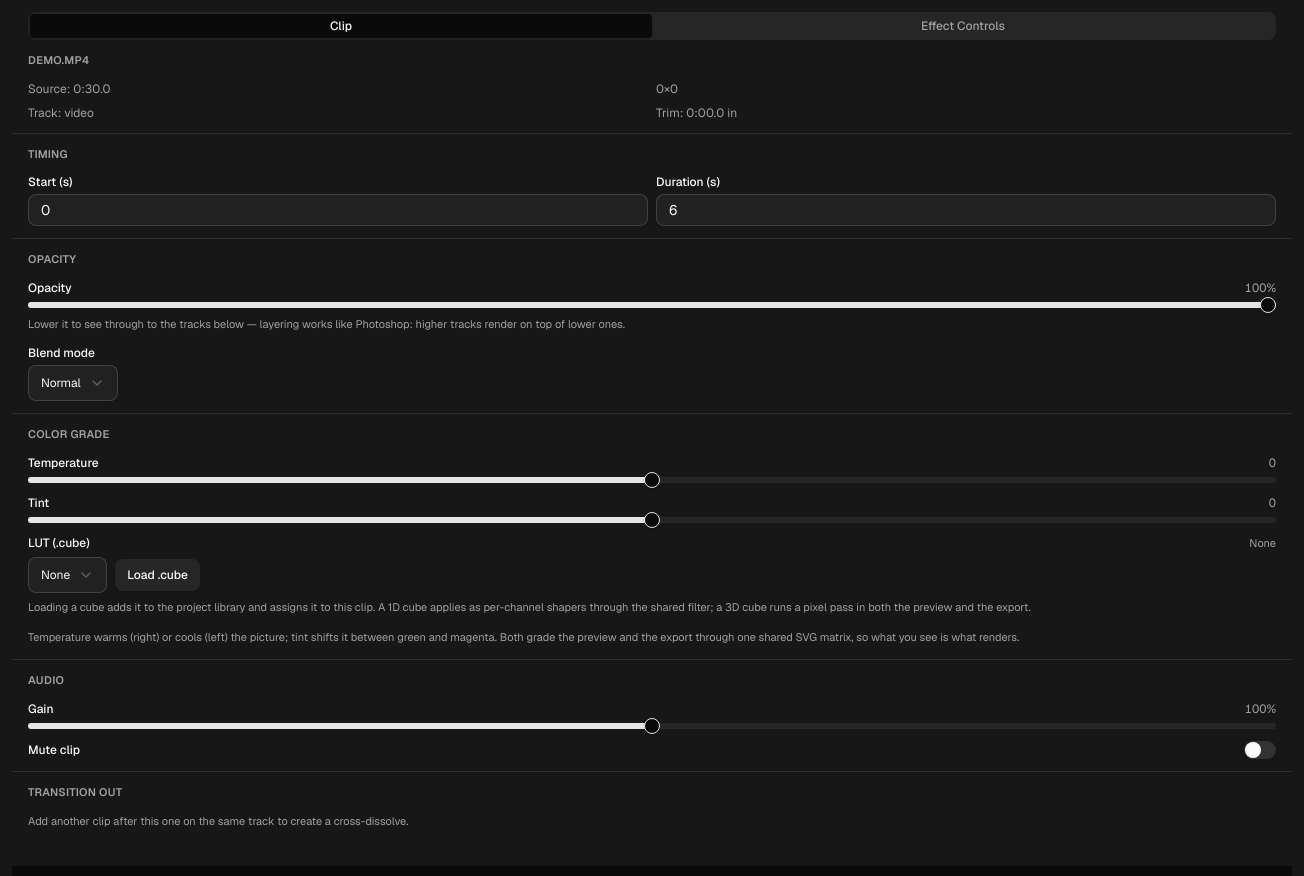
Test case: Applied Effects section › the matte submenu lists only tracks above the clip
Click the tab with test id "inspector-tab-effects" at [963, 26], box [652, 14, 1274, 38]
(page scrolled)
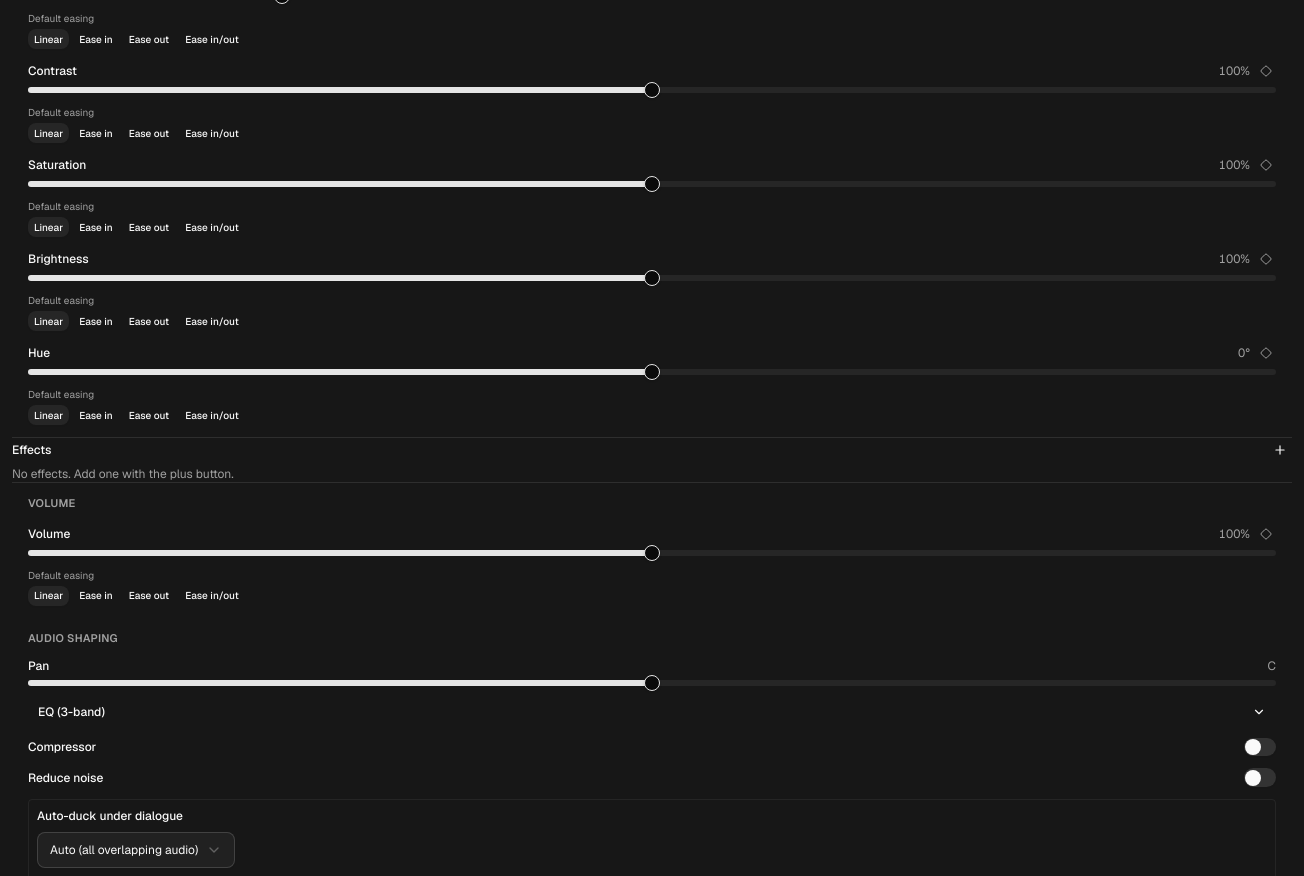
Click the button named "Add effect" at [1280, 450], box [1268, 438, 1292, 462]
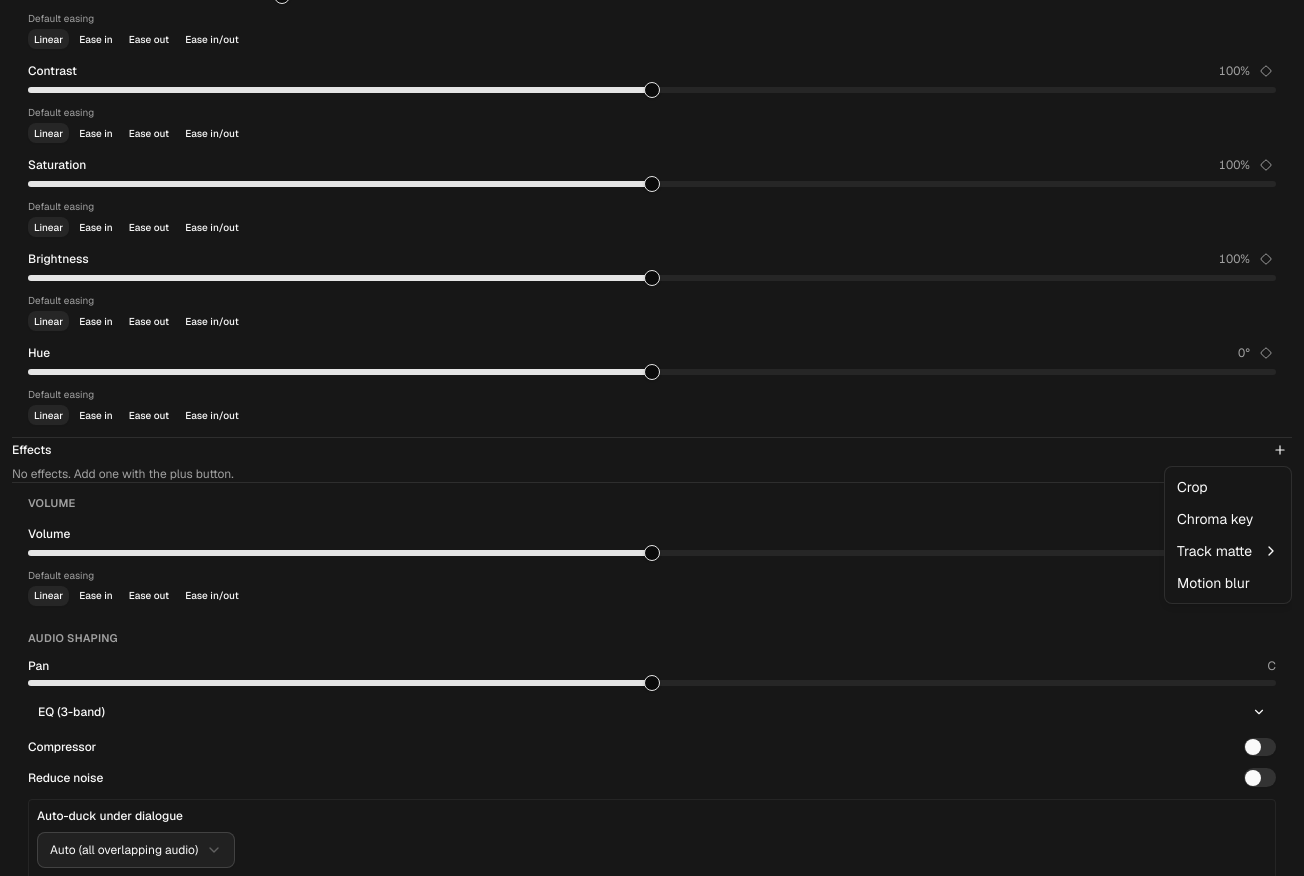
Hover over the menu item "Track matte" at [1228, 551], box [1177, 542, 1279, 560]
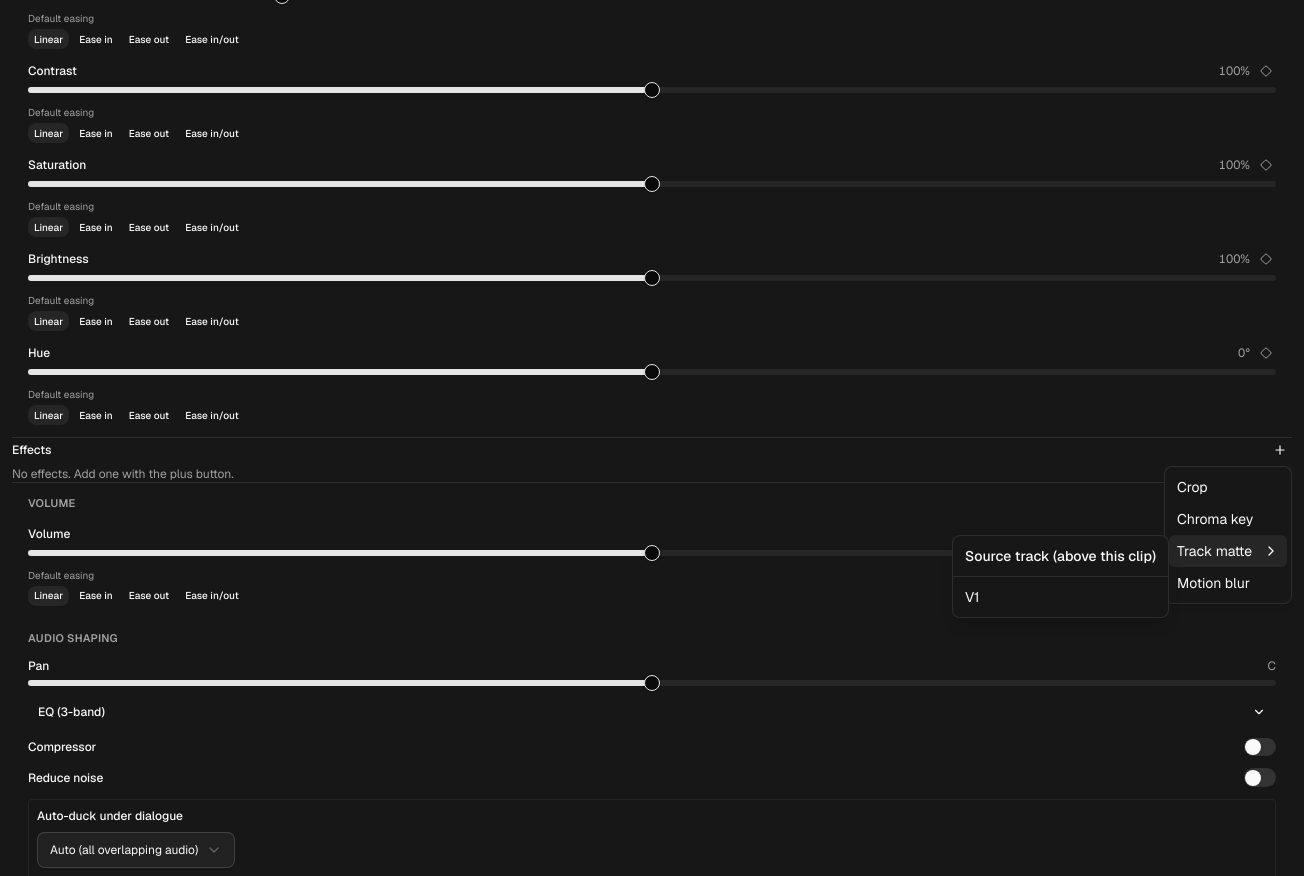
Result: the menu item "V1" is shown at [965, 588, 979, 606]
